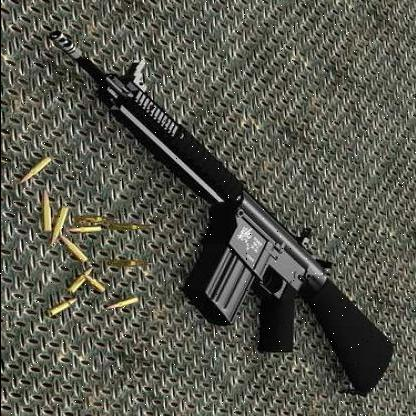rifle: (28, 10, 406, 405)
